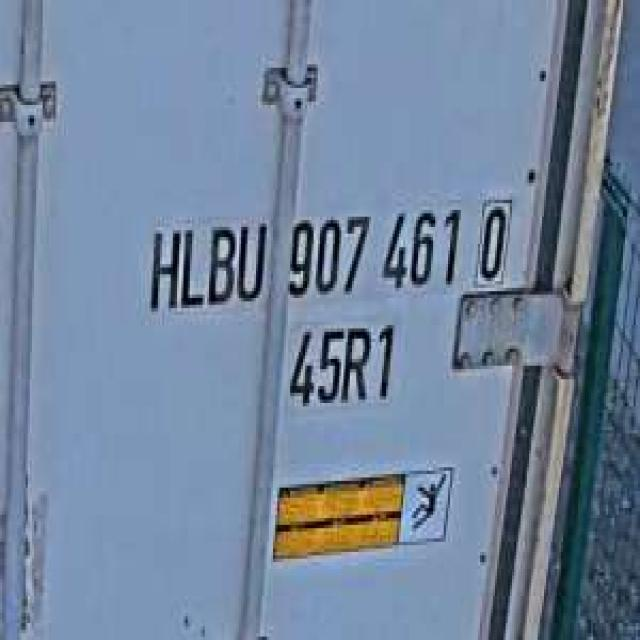dv: (474, 186, 514, 284)
owner: (141, 203, 269, 318)
serial: (282, 193, 463, 305)
size: (282, 312, 401, 413)
